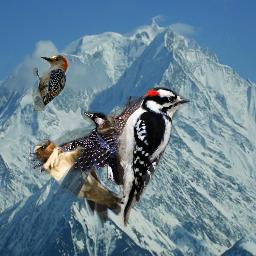Swallow: (31, 138, 129, 224)
Woodpecker: (97, 87, 190, 227), (28, 96, 149, 185), (32, 52, 75, 111)
